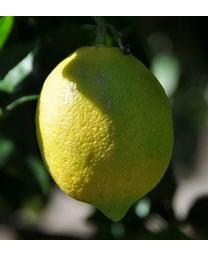lemon: (35, 43, 174, 222)
